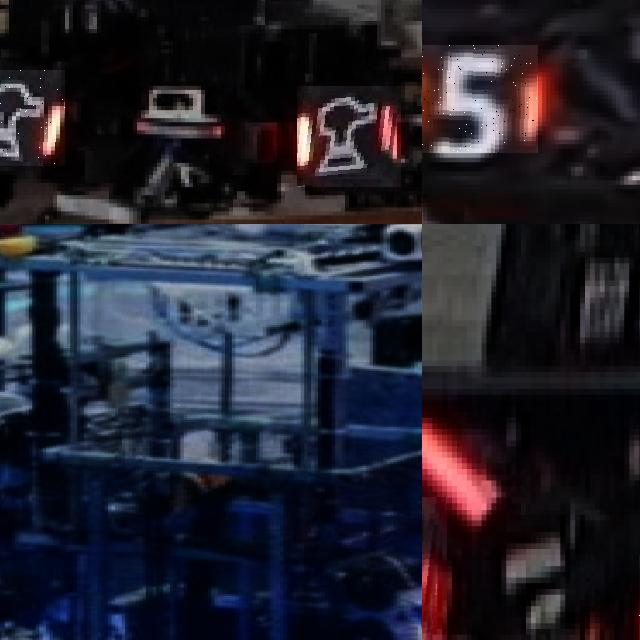R4: (422, 497, 447, 640)
R5: (422, 45, 537, 153)
Rs: (297, 86, 401, 187), (0, 69, 65, 166)
